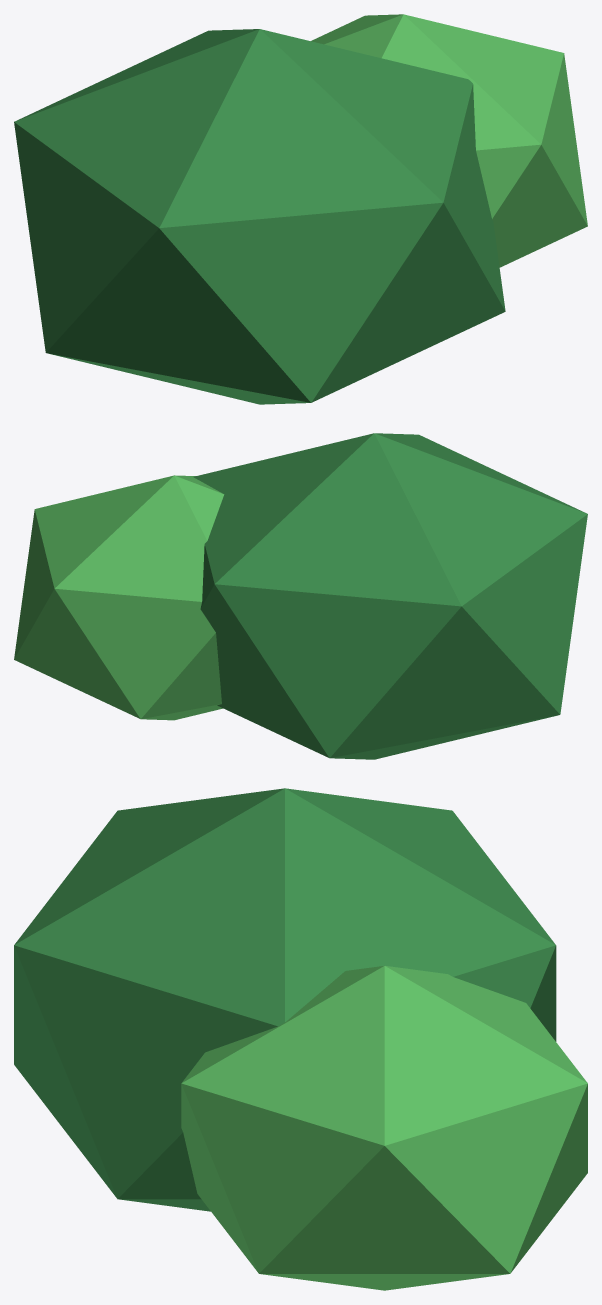
The model's file is bush.glb.
The picture shows the model from 3 angles, top to bottom: view 1: azimuth 30°, elevation 25°; view 2: azimuth 150°, elevation 25°; view 3: azimuth 270°, elevation 25°; orthographic projection. The views are drawn at different scales.
Parts seen in each view (by area): view 1: bush; view 2: bush; view 3: bush.
Part boxes in pixels (x1=…): bush: x1=14, y1=14, x2=587, y2=404; bush: x1=14, y1=433, x2=587, y2=759; bush: x1=14, y1=788, x2=587, y2=1290.
Bounding box in the file's own units: 0.7509 × 0.48 × 0.5764.
Materials: 1 (1 with a texture image).
